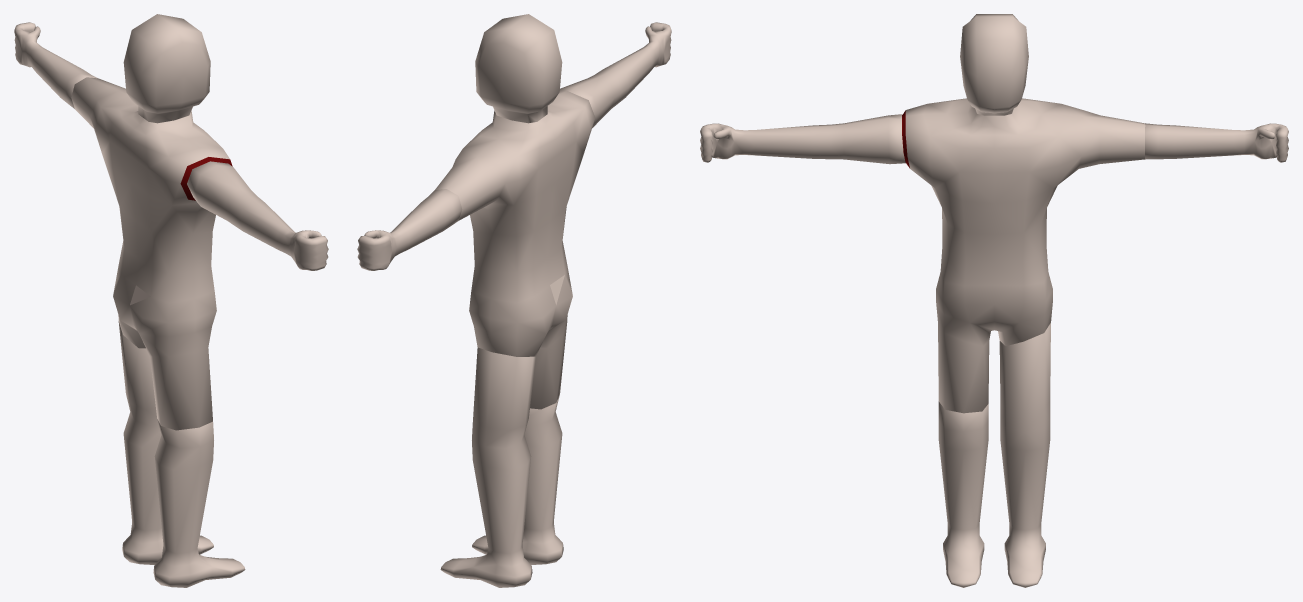
Rendered from HumanFlesh_Finn.fbx.
3 views of the same model, side by side, from view 1: azimuth 30°, elevation 25°; view 2: azimuth 150°, elevation 25°; view 3: azimuth 270°, elevation 25° (orthographic).
Visible parts, largest first — view 1: Torso, LegRight, Head, LegLeft, ArmRight, ArmLeft; view 2: Torso, LegLeft, Head, LegRight, ArmLeft, ArmRight; view 3: Torso, LegLeft, LegRight, ArmRight, Head, ArmLeft.
Part boxes in pixels (box(x1,y1,x2,y2)): Torso: box(71, 77, 232, 430); LegRight: box(153, 419, 245, 587); Head: box(123, 14, 210, 123); LegLeft: box(118, 321, 213, 564); ArmRight: box(187, 161, 328, 270); ArmLeft: box(14, 22, 97, 108); Torso: box(435, 91, 595, 409); LegLeft: box(440, 347, 535, 587); Head: box(475, 14, 562, 123); LegRight: box(472, 395, 563, 564); ArmLeft: box(357, 189, 462, 270); ArmRight: box(559, 22, 671, 128); Torso: box(902, 98, 1145, 413); LegLeft: box(999, 323, 1050, 587); LegRight: box(938, 401, 988, 587); ArmRight: box(700, 114, 905, 164); Head: box(960, 14, 1028, 115); ArmLeft: box(1145, 123, 1288, 162).
Size of the model in its own units: 33.24 by 176 by 173.
